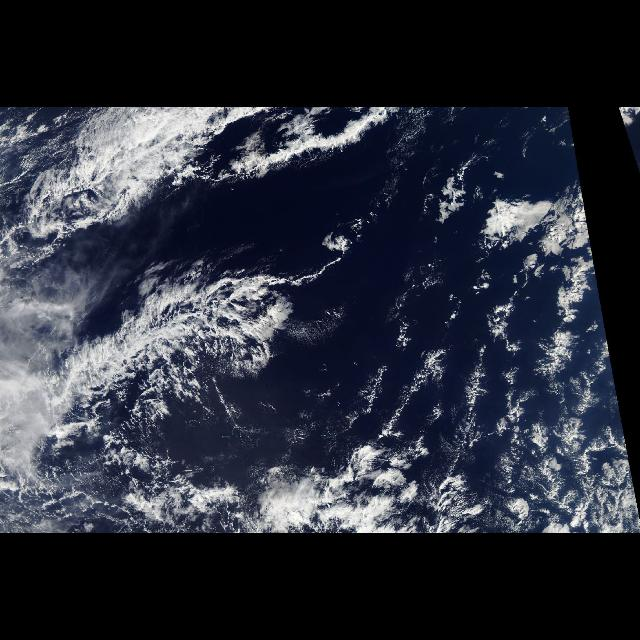Fish: (1, 246, 392, 474), (22, 124, 424, 228)
